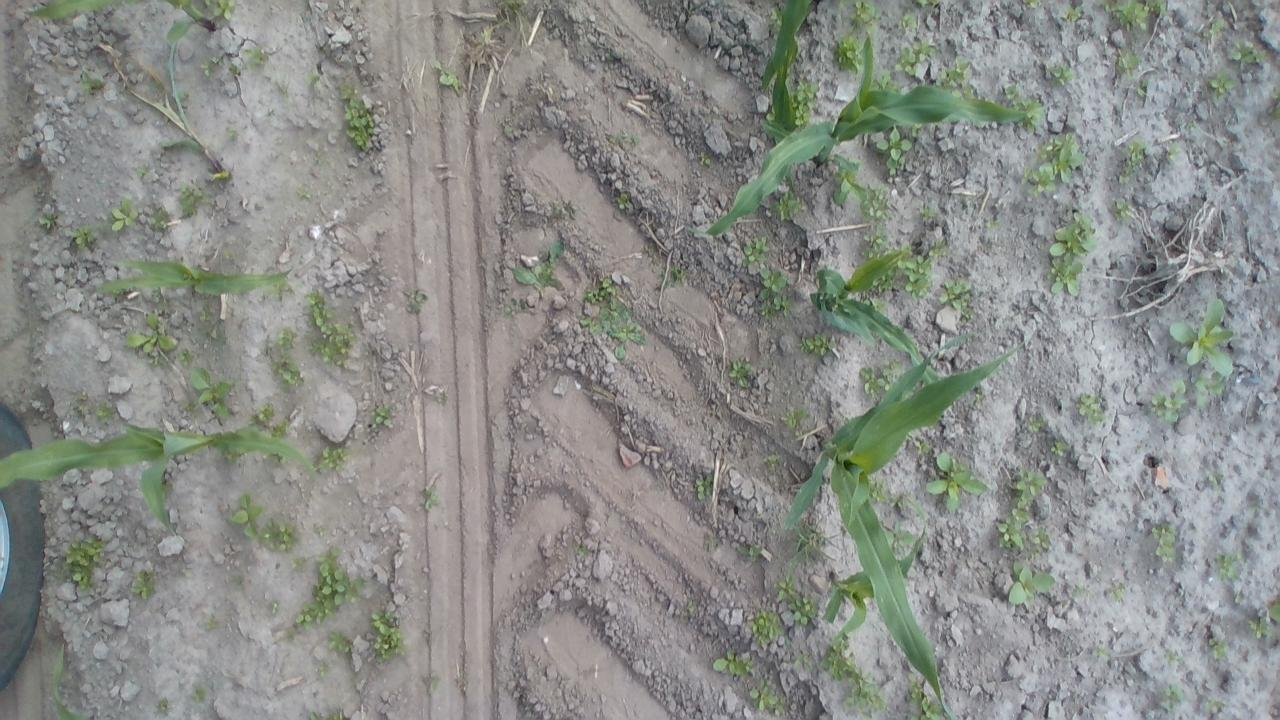Maize: (786, 337, 1026, 720), (688, 35, 1037, 236), (0, 420, 316, 550), (810, 248, 947, 388), (822, 500, 926, 654), (45, 642, 224, 720), (762, 0, 822, 145), (93, 255, 295, 295), (21, 0, 220, 40)
Weeds: (287, 548, 365, 638), (1168, 297, 1234, 376), (1046, 210, 1098, 296), (998, 469, 1052, 549), (1022, 132, 1086, 197), (924, 452, 986, 510), (52, 536, 106, 594), (600, 298, 648, 360), (512, 240, 566, 287), (339, 82, 375, 150), (189, 366, 235, 419), (774, 574, 820, 626), (123, 312, 177, 354), (844, 670, 888, 720), (896, 243, 934, 300), (311, 321, 356, 369), (786, 522, 829, 568), (1009, 560, 1055, 603), (369, 610, 408, 660), (904, 673, 945, 720), (876, 124, 912, 176), (747, 610, 791, 652), (820, 632, 856, 680), (934, 57, 974, 100), (1150, 380, 1187, 424), (1098, 0, 1150, 31), (749, 676, 786, 717), (258, 517, 298, 554), (894, 39, 935, 75), (834, 158, 866, 204), (831, 34, 866, 76), (940, 278, 974, 321), (790, 80, 820, 127), (230, 495, 262, 538), (270, 347, 303, 388), (1118, 138, 1145, 184), (860, 183, 891, 221), (883, 521, 916, 556), (770, 190, 806, 222), (848, 0, 881, 34), (304, 289, 334, 326), (858, 366, 892, 398), (178, 184, 212, 216), (1151, 523, 1177, 563), (312, 447, 350, 474), (1012, 98, 1044, 130), (1076, 395, 1109, 426), (108, 198, 138, 231), (1226, 40, 1267, 64), (862, 224, 888, 261), (712, 651, 752, 675), (1196, 371, 1224, 405), (584, 278, 620, 304), (432, 60, 460, 92), (796, 333, 834, 356), (1210, 70, 1239, 100), (758, 268, 786, 299), (248, 402, 274, 434), (758, 296, 792, 320), (742, 236, 769, 266), (130, 570, 156, 600), (1216, 552, 1243, 580), (1045, 61, 1077, 84), (1118, 49, 1142, 79), (68, 225, 96, 250), (866, 474, 889, 504), (872, 266, 896, 294), (728, 359, 751, 387), (549, 199, 581, 218), (78, 72, 103, 96), (328, 631, 354, 654), (1246, 616, 1273, 638), (402, 288, 426, 312), (578, 312, 602, 335), (1162, 685, 1184, 710), (658, 267, 684, 288), (694, 474, 714, 501), (371, 403, 392, 428), (1060, 4, 1084, 25), (1208, 636, 1228, 660), (607, 132, 641, 146), (266, 279, 292, 297), (200, 56, 222, 77), (783, 409, 806, 429), (1112, 198, 1132, 221), (212, 0, 236, 19), (861, 297, 886, 315), (1143, 0, 1169, 17), (882, 359, 902, 381), (270, 418, 290, 440), (94, 400, 114, 422), (279, 326, 297, 350), (424, 485, 441, 510), (150, 209, 170, 230), (1203, 18, 1226, 36), (738, 544, 762, 560), (928, 238, 948, 257), (502, 299, 523, 317), (222, 447, 244, 464), (1050, 440, 1070, 458), (768, 7, 782, 32), (898, 13, 918, 30), (245, 46, 262, 66), (794, 652, 812, 670), (264, 450, 286, 464), (1166, 142, 1180, 164), (918, 206, 938, 221), (1268, 599, 1280, 624), (1270, 92, 1280, 121), (38, 212, 56, 228), (177, 348, 193, 366), (1028, 416, 1046, 432), (153, 697, 170, 713), (160, 482, 174, 501), (1092, 644, 1109, 659), (914, 439, 931, 454), (192, 684, 206, 702), (1205, 698, 1222, 712), (1207, 471, 1224, 485), (1136, 78, 1148, 97), (1004, 84, 1019, 99), (479, 26, 493, 42), (148, 354, 166, 366), (1164, 650, 1178, 665), (890, 494, 904, 509), (1111, 584, 1124, 600), (574, 546, 590, 558), (618, 193, 630, 209), (764, 106, 776, 121), (204, 618, 219, 630), (700, 150, 711, 166), (296, 187, 310, 199), (763, 454, 778, 465), (974, 389, 985, 404), (200, 306, 210, 322), (914, 0, 940, 6), (1073, 584, 1086, 596), (910, 122, 921, 136), (77, 394, 86, 411), (1021, 0, 1040, 8), (304, 74, 319, 84), (318, 662, 328, 677), (136, 164, 148, 176), (218, 332, 228, 346), (229, 62, 240, 74), (278, 84, 288, 97), (227, 127, 237, 139), (316, 524, 326, 536), (1027, 549, 1040, 558), (330, 711, 343, 720), (110, 289, 124, 297), (270, 600, 278, 613), (508, 0, 528, 5), (150, 286, 160, 296), (837, 0, 848, 9), (429, 680, 438, 691), (986, 221, 1000, 228), (687, 600, 695, 612), (502, 126, 512, 135), (310, 713, 322, 720), (315, 156, 324, 165), (1130, 34, 1138, 44), (436, 394, 445, 402), (202, 0, 212, 7), (180, 92, 190, 99), (1188, 119, 1194, 127)
